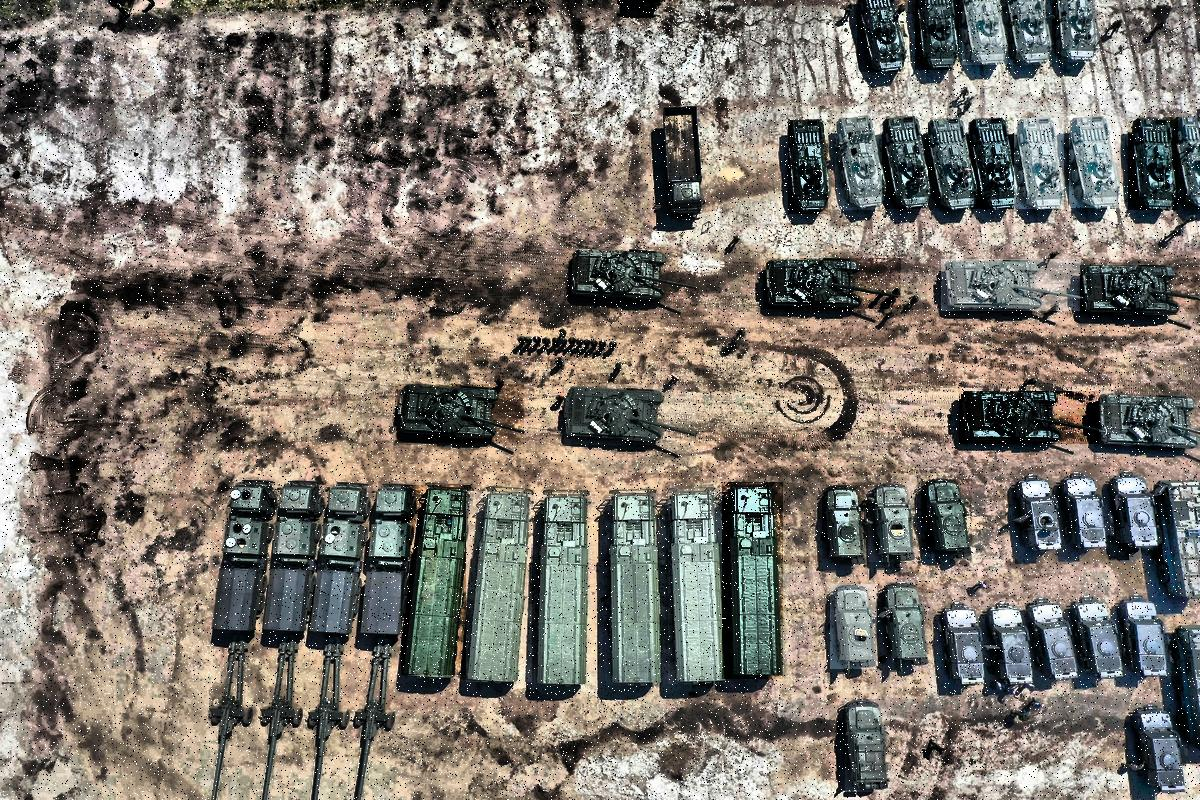military-vehicle: (401, 486, 471, 676), (467, 491, 533, 682), (723, 483, 784, 680), (535, 492, 594, 685), (668, 489, 725, 685), (605, 494, 657, 686), (565, 385, 696, 446), (395, 384, 524, 443), (959, 392, 1100, 445), (942, 260, 1082, 312), (763, 258, 901, 309), (570, 247, 696, 298), (1081, 266, 1200, 315), (1099, 394, 1200, 448), (836, 114, 886, 210), (1069, 117, 1121, 209), (1129, 117, 1179, 210), (882, 117, 931, 210), (929, 118, 978, 211), (1015, 118, 1065, 209), (879, 583, 931, 670), (970, 118, 1019, 209), (845, 700, 890, 792), (830, 585, 877, 670), (921, 480, 972, 555), (788, 119, 828, 214), (869, 486, 918, 563), (857, 0, 906, 72), (823, 486, 866, 560), (915, 0, 959, 70), (962, 0, 1008, 65), (1008, 0, 1052, 65), (1056, 0, 1099, 62)
